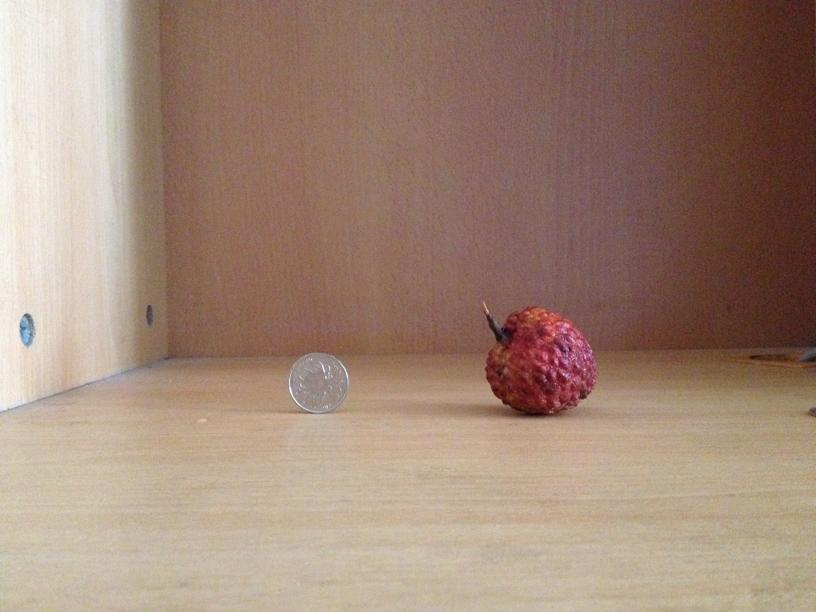coin: (287, 351, 350, 412)
litchi: (480, 303, 597, 415)
